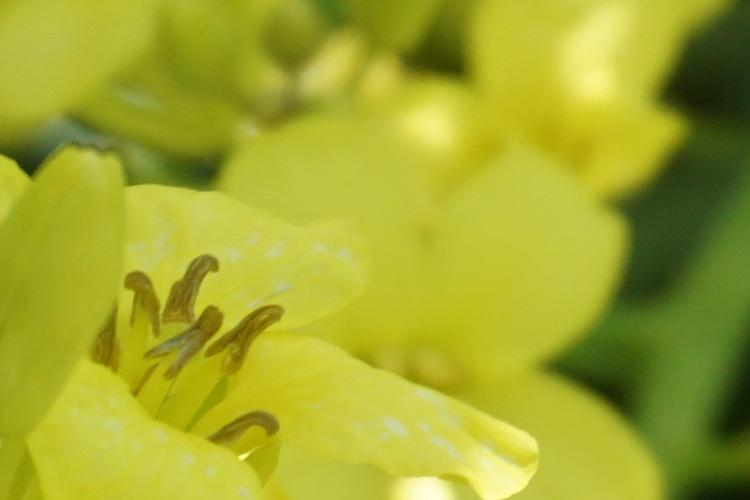bud: (20, 148, 126, 403)
yellow: (80, 181, 522, 482)
